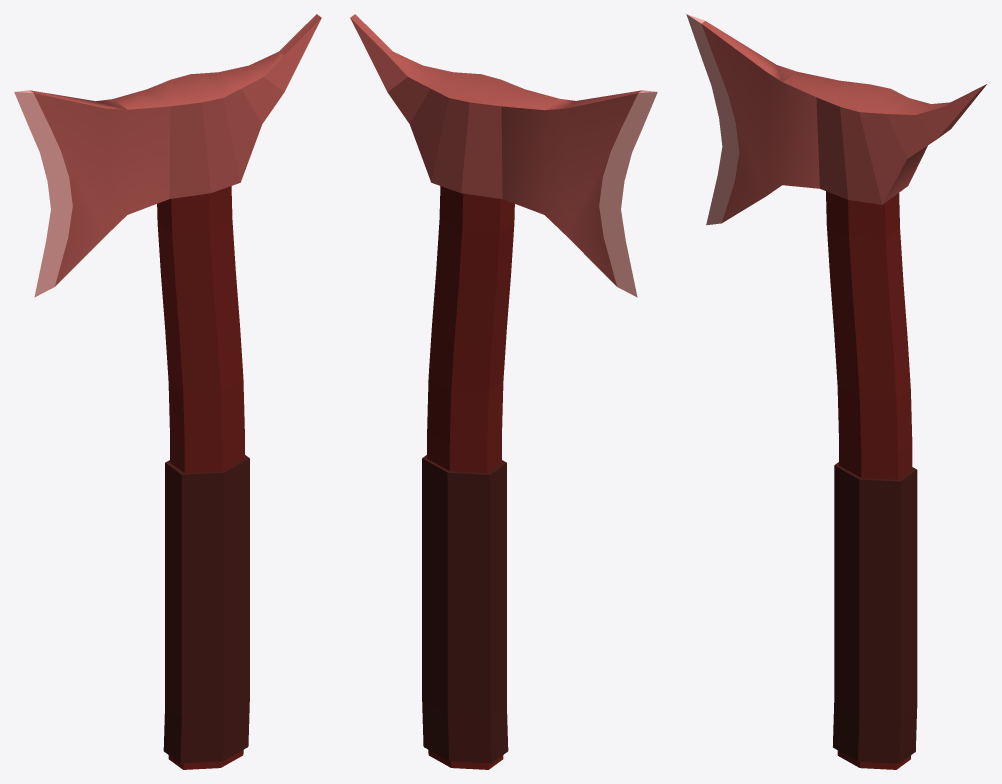
File: axe_life_steal.fbx
3 renders of one model, left to right at view 1: azimuth 30°, elevation 25°; view 2: azimuth 150°, elevation 25°; view 3: azimuth 330°, elevation 25°, orthographic. The views are drawn at different scales.
Visible parts, largest first — view 1: Handle.004, Blade.004; view 2: Handle.004, Blade.004; view 3: Handle.004, Blade.004.
Part boxes in pixels (x1,y1,x2,y2): Handle.004: [157, 186, 249, 769]; Blade.004: [14, 14, 321, 297]; Handle.004: [422, 186, 514, 769]; Blade.004: [350, 14, 657, 297]; Handle.004: [826, 191, 917, 769]; Blade.004: [686, 14, 986, 225].
Bounding box in the file's own units: 0.0513 × 0.6052 × 0.2708.
